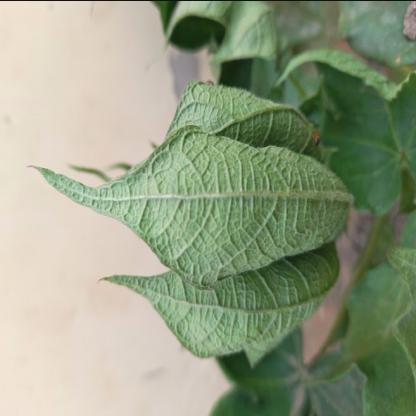curl_stage2: (166, 155, 288, 266), (183, 268, 303, 351), (292, 145, 338, 255), (191, 90, 261, 150), (108, 190, 169, 240)
